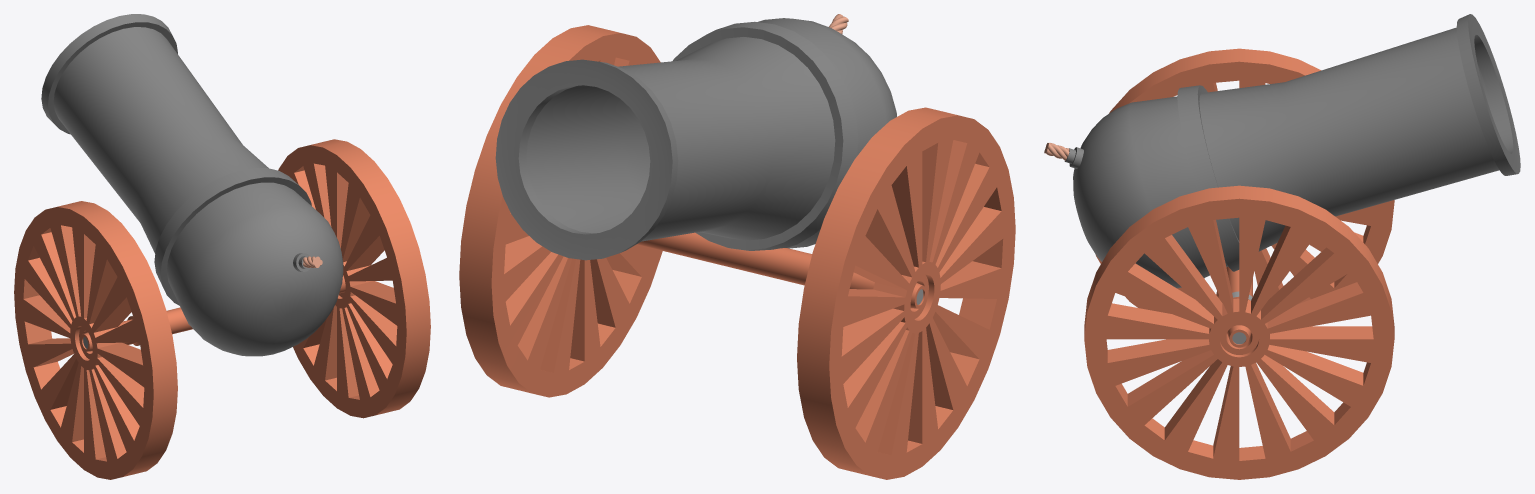
Rendered from Cannon.fbx.
3 views of the same model, side by side, from view 1: azimuth 30°, elevation 25°; view 2: azimuth 150°, elevation 25°; view 3: azimuth 270°, elevation 25° (orthographic). The views are drawn at different scales.
Visible parts, largest first — view 1: Cylinder, Cylinder.001; view 2: Cylinder, Cylinder.001; view 3: Cylinder, Cylinder.001.
Boxes of the visible parts, box(x1,y1,x2,y2) form: Cylinder: box(14, 139, 430, 479); Cylinder.001: box(41, 14, 343, 356); Cylinder: box(459, 25, 1015, 479); Cylinder.001: box(495, 18, 896, 260); Cylinder: box(1084, 48, 1394, 479); Cylinder.001: box(1073, 14, 1520, 288).
Bounding box in the file's own units: 105 × 125 × 141.
